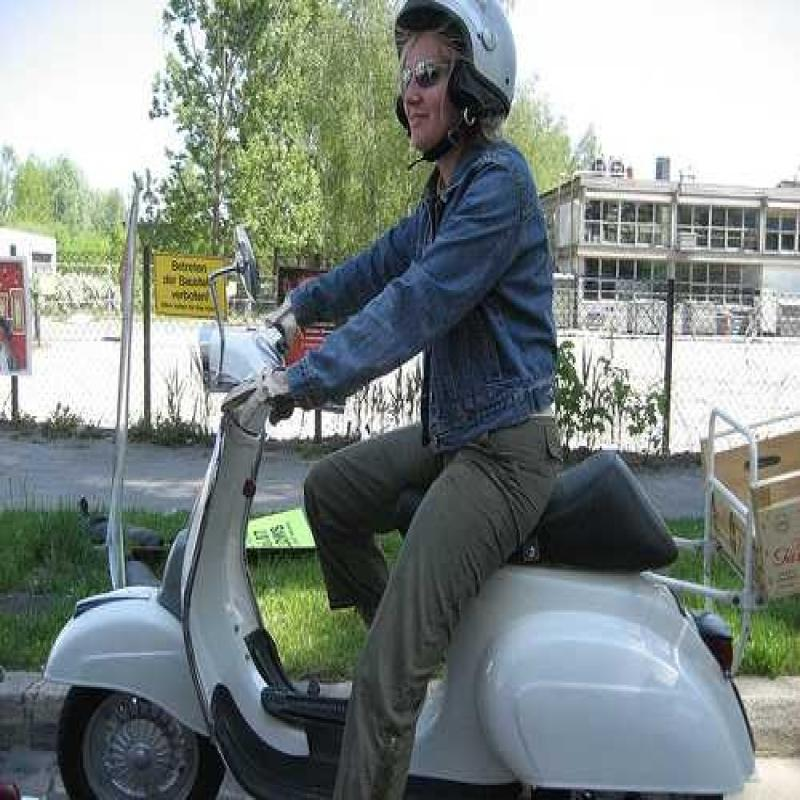bike: (75, 222, 747, 800)
